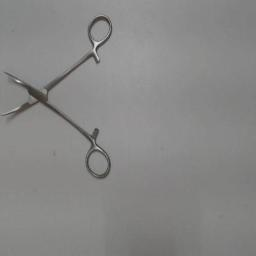Crile Artery Forceps: (1, 10, 115, 184)
